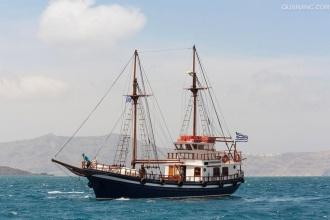otherboat: (50, 132, 251, 198)
